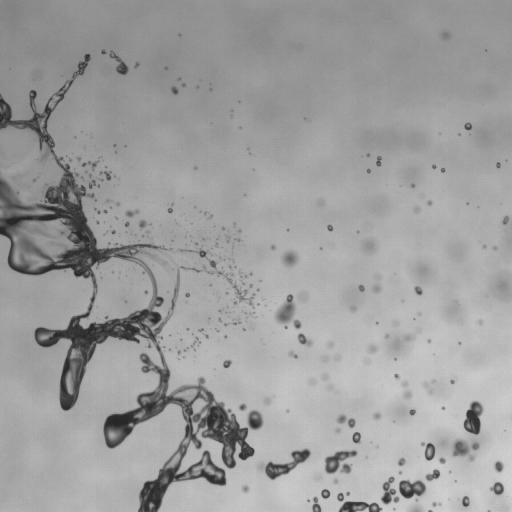droplet: (274, 294, 301, 329), (398, 478, 426, 511), (324, 450, 357, 473), (463, 400, 483, 434), (452, 439, 479, 461), (381, 476, 399, 504), (281, 250, 298, 267), (421, 442, 435, 460), (297, 333, 312, 346), (489, 482, 504, 495), (362, 240, 376, 253), (425, 469, 440, 481), (312, 496, 321, 511), (99, 171, 111, 180), (125, 209, 138, 217), (191, 338, 200, 349), (367, 344, 378, 353), (352, 432, 361, 443), (494, 461, 503, 472), (321, 489, 330, 499), (403, 390, 412, 399), (298, 292, 308, 300), (404, 333, 415, 340), (372, 284, 381, 292), (414, 286, 422, 295), (462, 496, 469, 506), (139, 220, 147, 228), (288, 351, 297, 358), (398, 457, 405, 466), (171, 86, 178, 94), (464, 122, 471, 130), (89, 179, 96, 187), (223, 360, 231, 367), (442, 32, 449, 39), (239, 403, 246, 410), (373, 412, 380, 419), (242, 485, 249, 492), (502, 216, 508, 224), (309, 378, 315, 385), (264, 397, 270, 404), (247, 311, 255, 316), (232, 319, 240, 324), (358, 285, 364, 291), (409, 409, 415, 415), (439, 457, 445, 463), (225, 235, 230, 242), (432, 502, 440, 506), (167, 207, 172, 213), (414, 207, 420, 212), (327, 225, 332, 231), (327, 342, 333, 347), (322, 374, 328, 379), (318, 200, 323, 205), (394, 374, 399, 379), (402, 381, 407, 386), (335, 428, 340, 433), (496, 162, 500, 167), (427, 200, 431, 205), (125, 221, 129, 226), (215, 242, 219, 247), (270, 245, 275, 249), (375, 275, 380, 279), (351, 306, 355, 311), (478, 319, 482, 324), (323, 356, 328, 360), (423, 382, 427, 387), (101, 50, 105, 54), (441, 168, 445, 172), (208, 215, 212, 219), (169, 257, 173, 261), (185, 293, 189, 297), (177, 350, 181, 354), (450, 379, 454, 383), (398, 470, 402, 474), (333, 479, 337, 483), (235, 238, 240, 241), (135, 63, 138, 67), (432, 165, 436, 168), (96, 210, 100, 213), (111, 230, 115, 233), (316, 476, 319, 480), (346, 491, 349, 495), (182, 83, 185, 86), (77, 157, 80, 160), (367, 169, 370, 172), (221, 227, 224, 230), (238, 229, 241, 232), (146, 230, 149, 233), (493, 246, 496, 249), (249, 284, 252, 287), (218, 318, 221, 321), (199, 328, 202, 331), (205, 334, 208, 337), (385, 334, 388, 337), (427, 339, 430, 342), (442, 406, 445, 409), (412, 184, 414, 187), (106, 199, 109, 201), (116, 203, 119, 205), (204, 212, 207, 214), (483, 245, 486, 247), (144, 291, 147, 293), (225, 323, 228, 325), (224, 335, 227, 337), (458, 342, 461, 344), (184, 348, 187, 350), (431, 380, 434, 382), (104, 210, 106, 212), (96, 221, 98, 223), (195, 243, 197, 245), (395, 322, 397, 324), (367, 361, 369, 363), (329, 386, 331, 388), (429, 391, 431, 393)
ligament: (0, 54, 263, 511), (256, 448, 310, 479), (337, 493, 382, 511), (110, 51, 128, 74), (336, 414, 355, 428), (82, 160, 98, 169), (376, 156, 381, 166), (32, 177, 38, 181), (428, 510, 432, 511)
